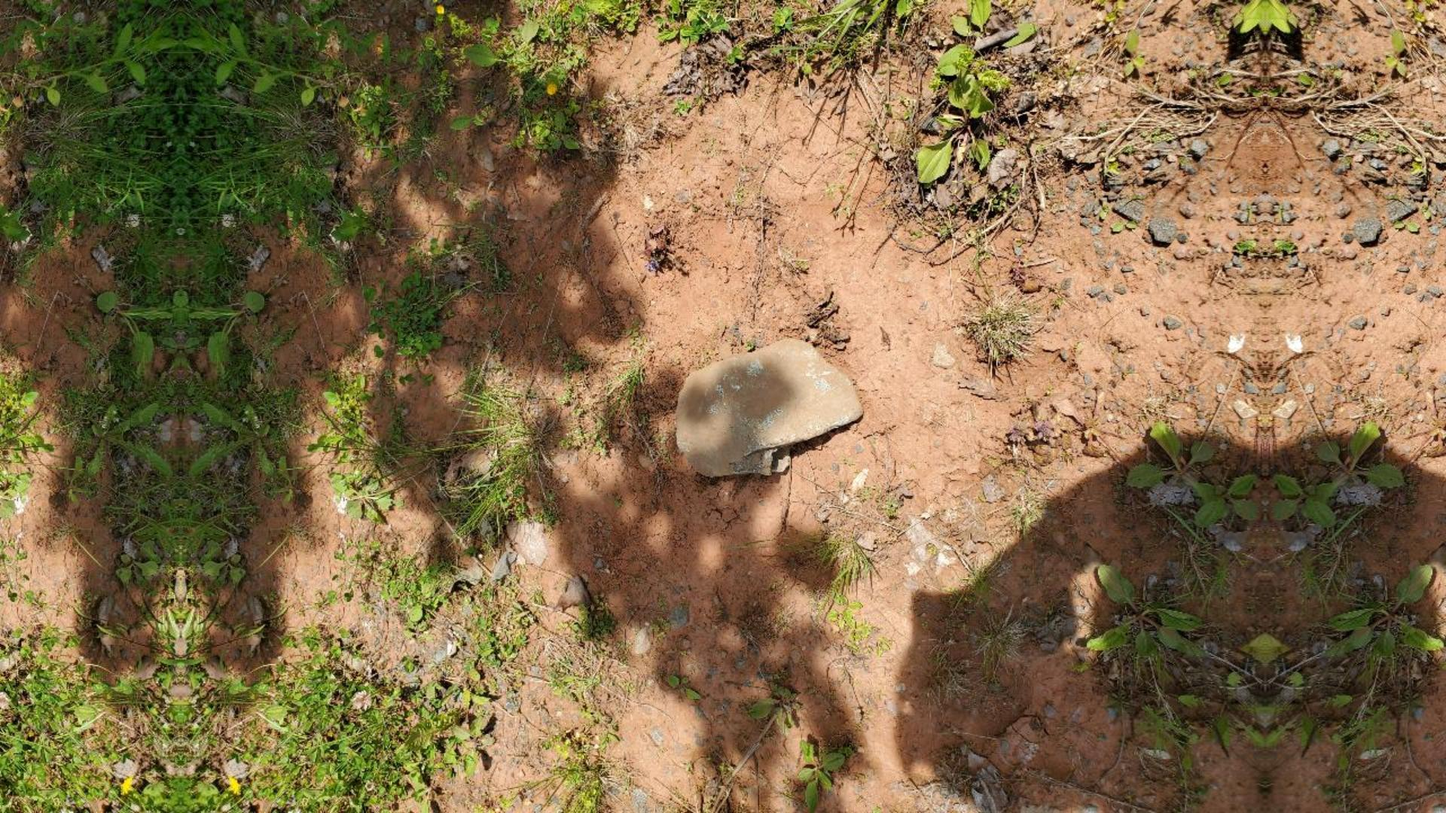rock: (676, 339, 862, 477)
